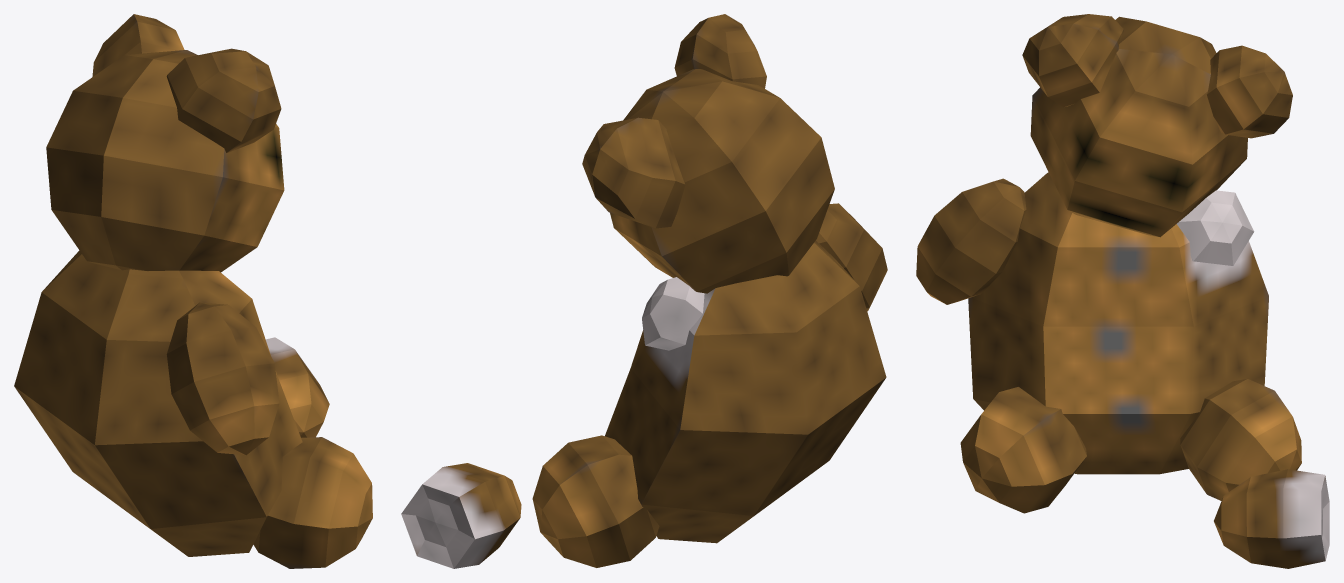
File: obj_teddy.fbx
3 views of the same model, side by side, from view 1: azimuth 30°, elevation 25°; view 2: azimuth 150°, elevation 25°; view 3: azimuth 270°, elevation 25° (orthographic). The views are drawn at different scales.
Visible parts, largest first — view 1: obj_teddy; view 2: obj_teddy; view 3: obj_teddy.
Part boxes in pixels (x1,y1,x2,y2): obj_teddy: (14,14,372,568); obj_teddy: (401,14,887,568); obj_teddy: (916,14,1329,568).
Size of the model in its own units: 71.64 by 97.97 by 77.79.
